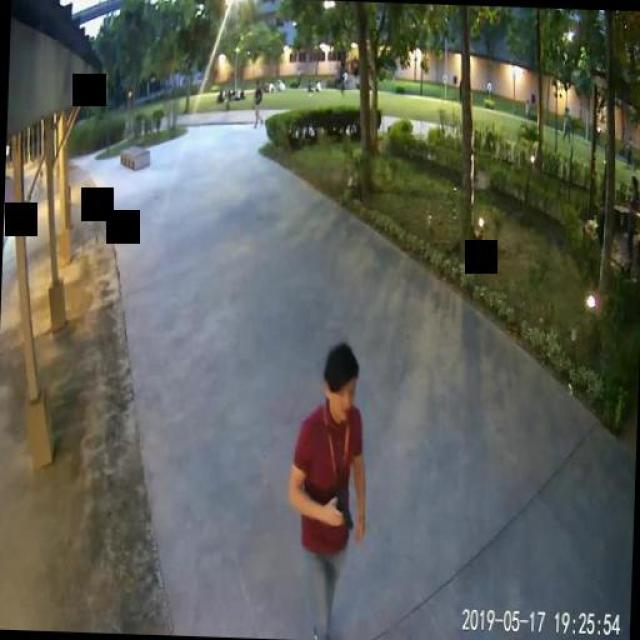gun: (331, 490, 351, 528)
